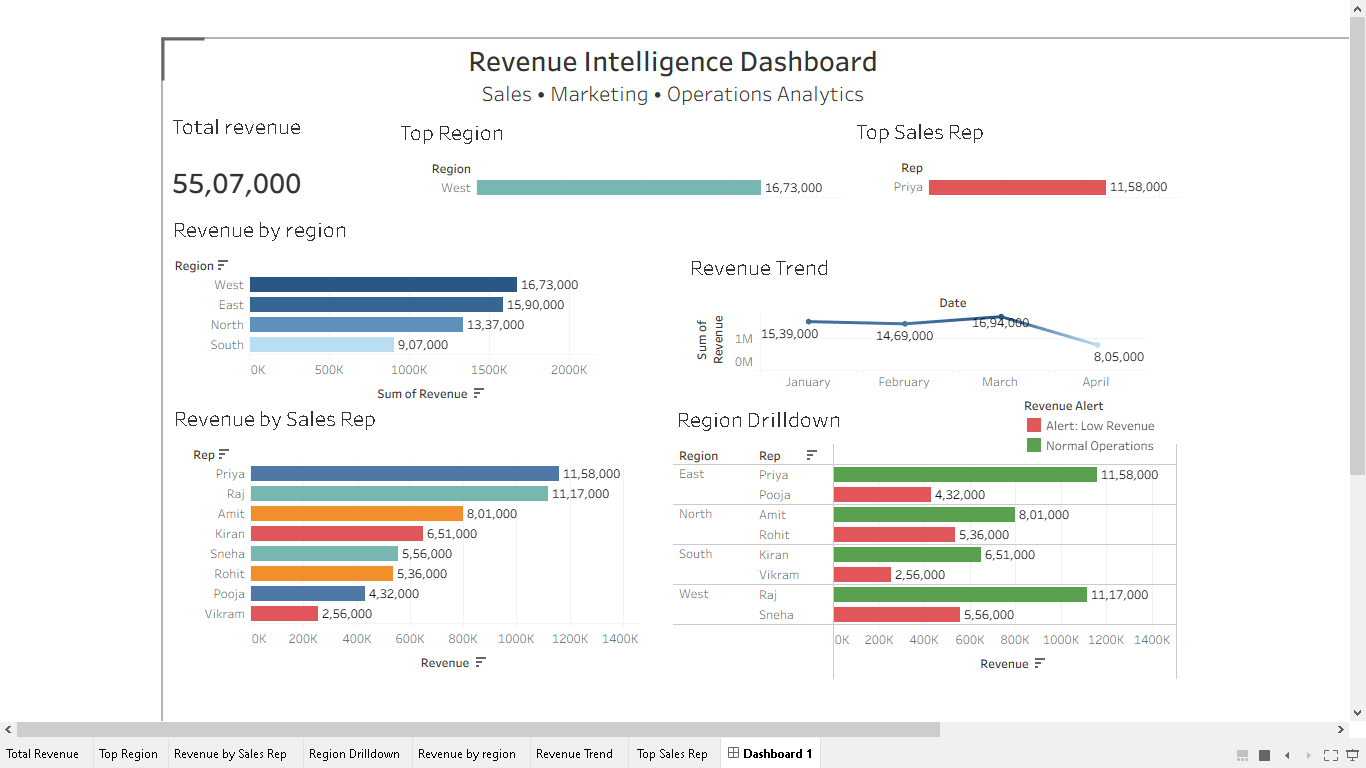

The dashboard page shown, as its layout file describes it:
{"tool":"tableau","page":{"name":"Dashboard 1","canvas":[1024,644],"ordinal":0},"visuals":[{"type":"title","box":[2,0,1018,73]},{"type":"worksheet","title":"Total Revenue","mark":"Automatic","box":[6,70,219,115]},{"type":"worksheet","title":" Top Sales Rep","mark":"Automatic","rows":["Rep"],"cols":["Revenue"],"box":[686,75,333,107]},{"type":"worksheet","title":"Top Region","mark":"Automatic","rows":["Region"],"cols":["Revenue"],"box":[234,76,445,110]},{"type":"worksheet","title":"Revenue by region","mark":"Automatic","rows":["Region"],"cols":["Revenue"],"box":[7,173,455,198]},{"type":"worksheet","title":"Revenue Trend","mark":"Automatic","rows":["Revenue"],"cols":["Date"],"box":[524,211,459,143]},{"type":"legend","title":"Region Drilldown","param":"[federated.08qmzr71wh02ra136dtyv0du1glu].[usr:Calculation_0642947349970945:nk]","box":[862,359,150,59]},{"type":"worksheet","title":"Revenue by Sales Rep","mark":"Automatic","rows":["Rep"],"cols":["Revenue"],"box":[8,362,470,284]},{"type":"worksheet","title":"Region Drilldown","mark":"Automatic","rows":["Region","Rep"],"cols":["Revenue"],"box":[511,363,504,284]}]}

Visuals, with their boxes on the page's 1024x644 design canvas (x1, y1, x2, y2). These are canvas units, not pixel positions in the 1366x768 screenshot, which may show the page scaled, cropped or inside an application window:
title: region(2, 0, 1020, 73)
"Total Revenue" worksheet: region(6, 70, 225, 185)
" Top Sales Rep" worksheet: region(686, 75, 1019, 182)
"Top Region" worksheet: region(234, 76, 679, 186)
"Revenue by region" worksheet: region(7, 173, 462, 371)
"Revenue Trend" worksheet: region(524, 211, 983, 354)
"Region Drilldown" legend: region(862, 359, 1012, 418)
"Revenue by Sales Rep" worksheet: region(8, 362, 478, 646)
"Region Drilldown" worksheet: region(511, 363, 1015, 647)
